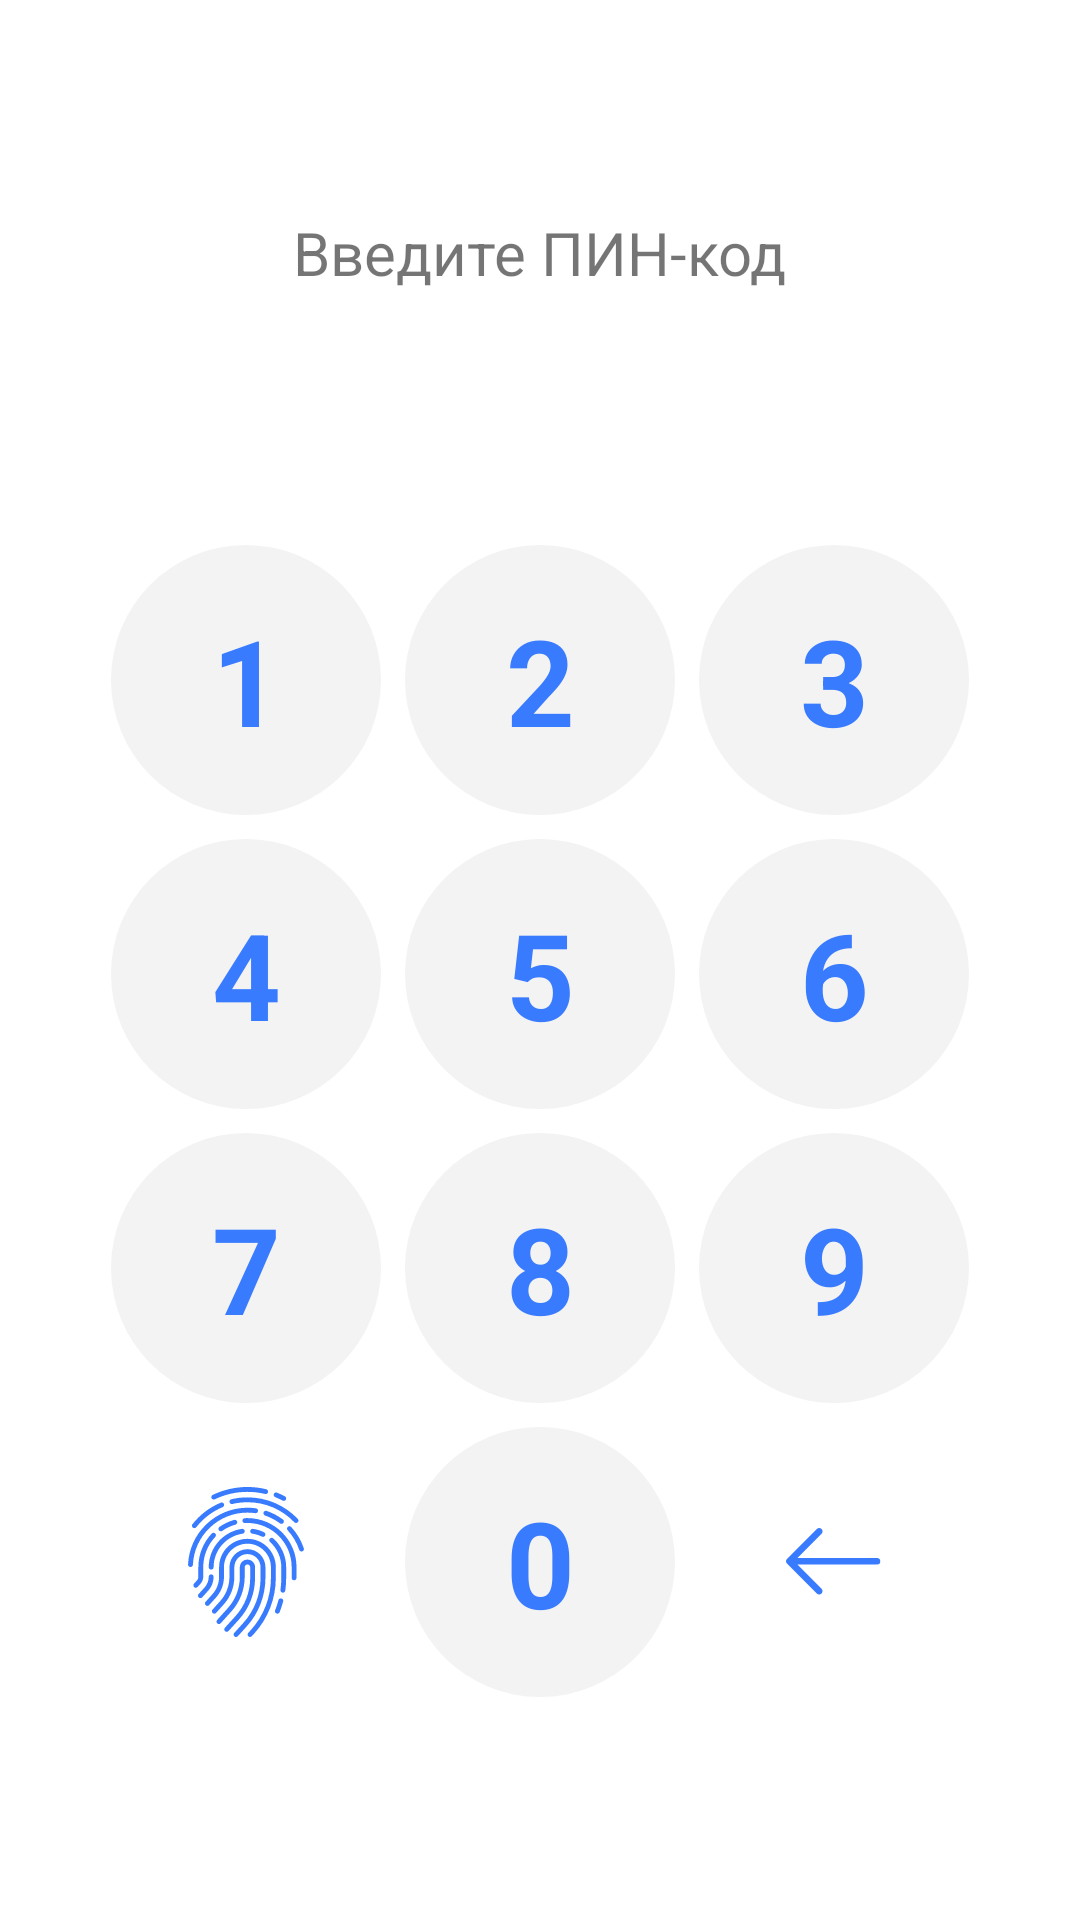

Icon click points for this 1080*1920 phone screenshot, format [x,y]:
fingerprint: [246,1562]
left arrow: [833,1561]
